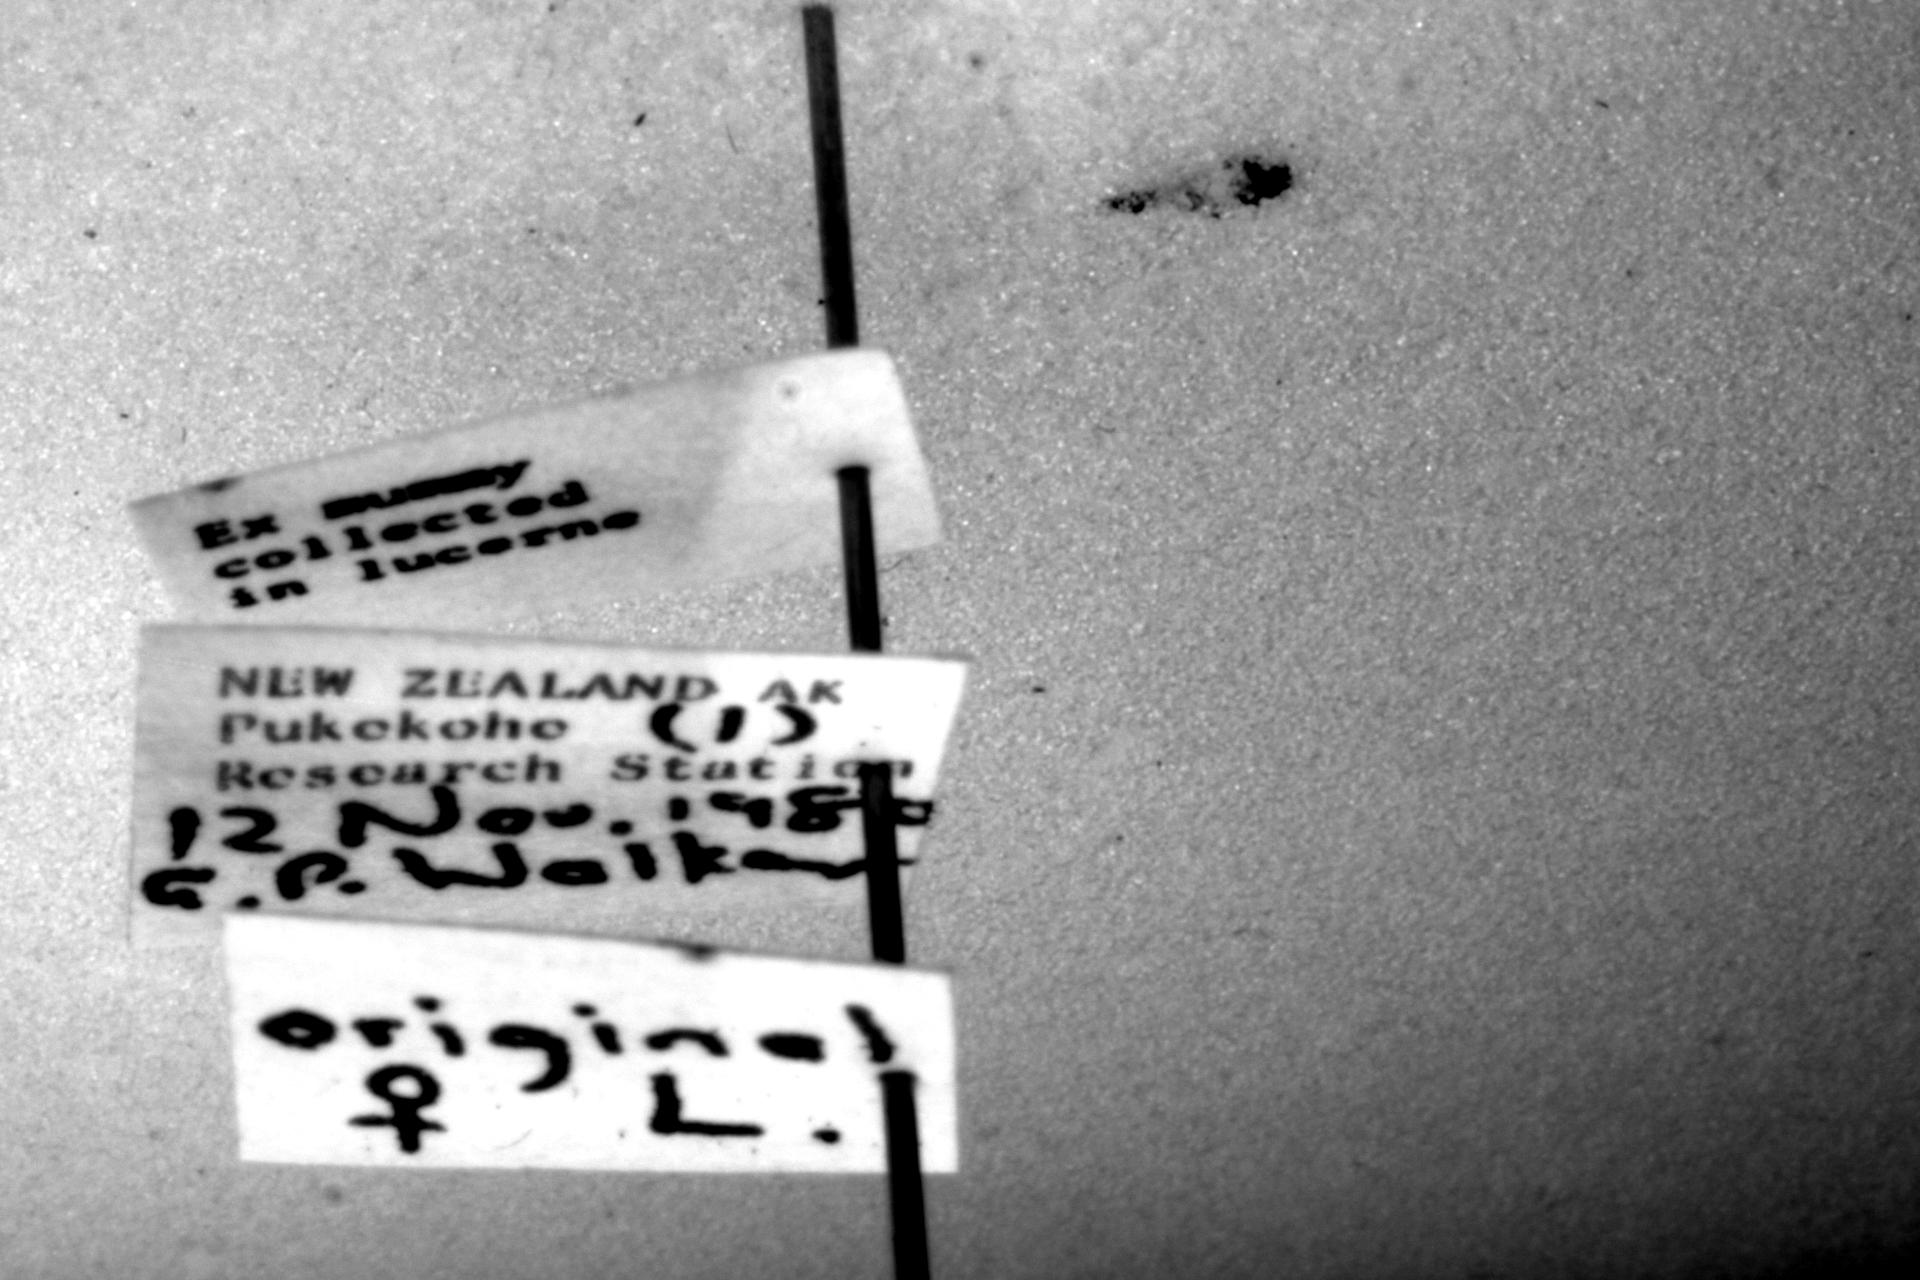hand_label: (226, 914, 956, 1174)
mixed_label: (131, 626, 967, 949)
typed_label: (131, 349, 946, 630)
